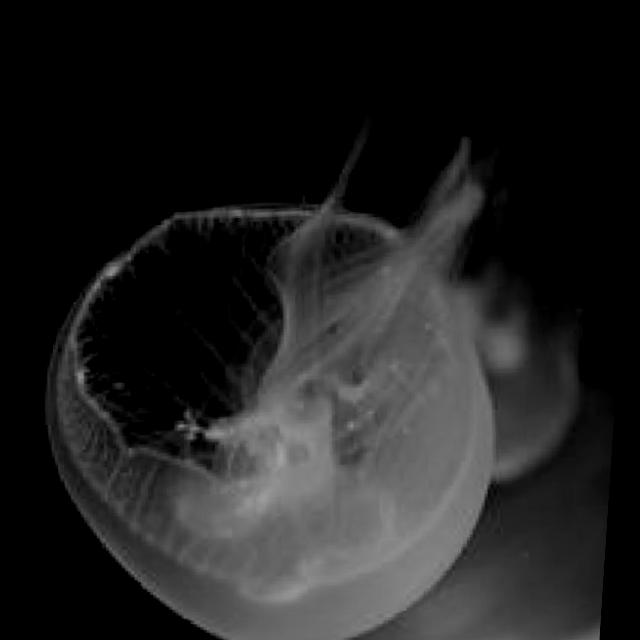Moon-jellyfish: (6, 7, 620, 640)
